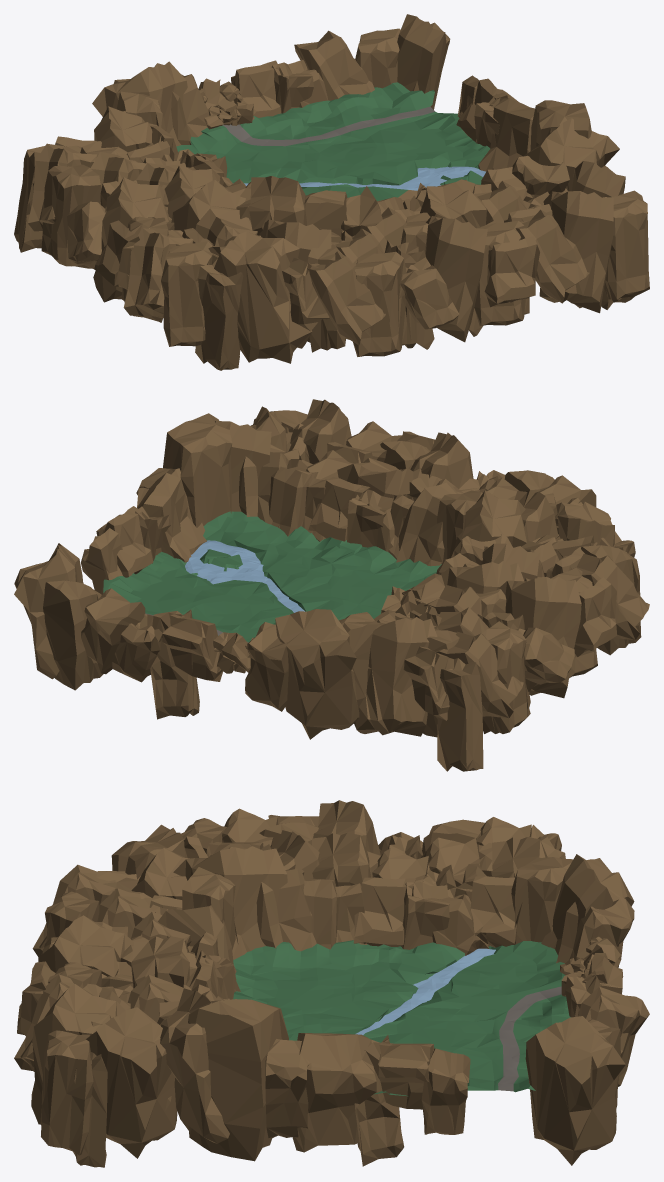
Rendered from home_base.fbx.
3 renders of one model, top to bottom at view 1: azimuth 30°, elevation 25°; view 2: azimuth 150°, elevation 25°; view 3: azimuth 270°, elevation 25°, orthographic. The views are drawn at different scales.
Parts seen in each view (by area): view 1: ground, pCube132, pCube184, pCube190, pCube181, pCube191, pCube185, pCube148, pCube176, pCube139, pCube134, pCube198 (+47 smaller); view 2: ground, pCube7, pCube205, pCube24, pCube138, pCube172, pCube16, pCube15, pCube34, pCube13, pCube2, pCube6 (+51 smaller); view 3: ground, pCube15, pCube24, pCube196, pCube34, pCube185, pCube23, pCube31, pCube33, pCube184, pCube7, pCube8 (+46 smaller).
Part boxes in pixels (bbox=[...]): ground: bbox=[176, 82, 490, 201]; pCube132: bbox=[214, 231, 312, 363]; pCube184: bbox=[539, 191, 613, 313]; pCube190: bbox=[425, 216, 487, 342]; pCube181: bbox=[161, 241, 214, 346]; pCube191: bbox=[353, 251, 406, 356]; pCube185: bbox=[604, 190, 649, 300]; pCube148: bbox=[195, 258, 243, 370]; pCube176: bbox=[307, 251, 385, 345]; pCube139: bbox=[41, 164, 101, 268]; pCube134: bbox=[123, 228, 193, 318]; pCube198: bbox=[515, 209, 589, 303]; ground: bbox=[103, 511, 441, 642]; pCube7: bbox=[275, 609, 359, 739]; pCube205: bbox=[354, 617, 437, 736]; pCube24: bbox=[163, 413, 232, 527]; pCube138: bbox=[499, 576, 581, 698]; pCube172: bbox=[437, 657, 483, 771]; pCube16: bbox=[43, 580, 103, 690]; pCube15: bbox=[14, 543, 83, 679]; pCube34: bbox=[137, 473, 206, 562]; pCube13: bbox=[81, 588, 145, 674]; pCube2: bbox=[147, 609, 199, 719]; pCube6: bbox=[245, 622, 288, 711]; ground: bbox=[233, 940, 570, 1096]; pCube15: bbox=[525, 1016, 625, 1165]; pCube24: bbox=[188, 999, 288, 1161]; pCube196: bbox=[86, 1007, 177, 1158]; pCube34: bbox=[292, 1033, 376, 1152]; pCube185: bbox=[40, 1030, 93, 1155]; pCube23: bbox=[160, 988, 229, 1143]; pCube31: bbox=[173, 846, 287, 959]; pCube33: bbox=[265, 1039, 309, 1137]; pCube184: bbox=[31, 984, 125, 1124]; pCube7: bbox=[541, 854, 634, 955]; pCube8: bbox=[511, 857, 573, 944].
Size of the model in its own units: 2266 by 668 by 2294.
